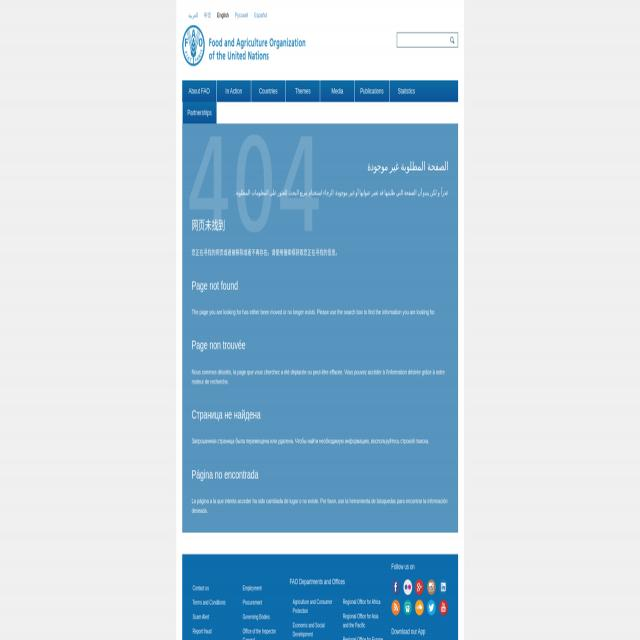button: (182, 25, 306, 66), (182, 102, 216, 124), (389, 81, 424, 102), (182, 81, 216, 102), (217, 81, 251, 102), (251, 81, 285, 102), (286, 81, 320, 102), (320, 81, 354, 102), (355, 81, 389, 102), (415, 580, 424, 595), (427, 580, 436, 595), (439, 580, 448, 595), (415, 600, 424, 615), (427, 600, 436, 615), (439, 600, 448, 615), (392, 580, 400, 595), (404, 580, 412, 595), (392, 600, 400, 615), (404, 600, 412, 615), (450, 36, 454, 44)
field: (397, 32, 458, 48)
